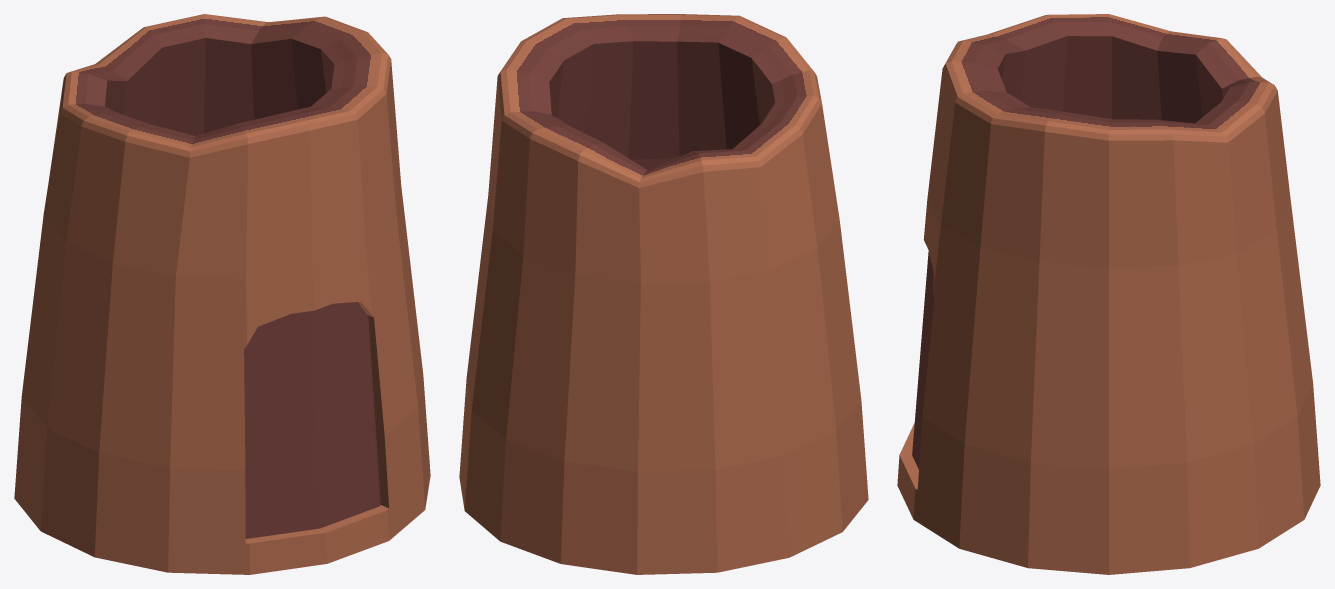
Rendered from Shaft Furnance 01_2.fbx.
3 renders of one model, left to right at view 1: azimuth 30°, elevation 25°; view 2: azimuth 150°, elevation 25°; view 3: azimuth 270°, elevation 25°, orthographic. The views are drawn at different scales.
Visible parts, largest first — view 1: Shaft Furnance 01_2; view 2: Shaft Furnance 01_2; view 3: Shaft Furnance 01_2.
Part boxes in pixels (box(x1,y1,x2,y2)): Shaft Furnance 01_2: box(14, 14, 430, 574); Shaft Furnance 01_2: box(459, 14, 868, 574); Shaft Furnance 01_2: box(897, 14, 1320, 574).
Bounding box in the file's own units: 116 × 129 × 116.
